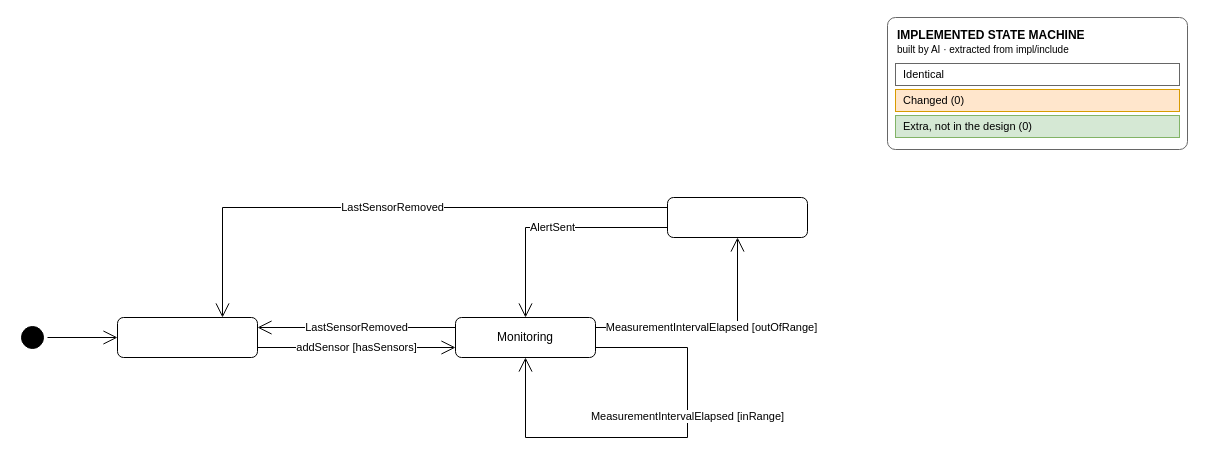
Image size: 1205x469. Some labels were removed from this diagram. The box of each missing label's shape, as (x1, y1, x2, y2) in pixels:
AlertingUser: (666, 196, 808, 238)
Unconfigured: (116, 316, 258, 358)
